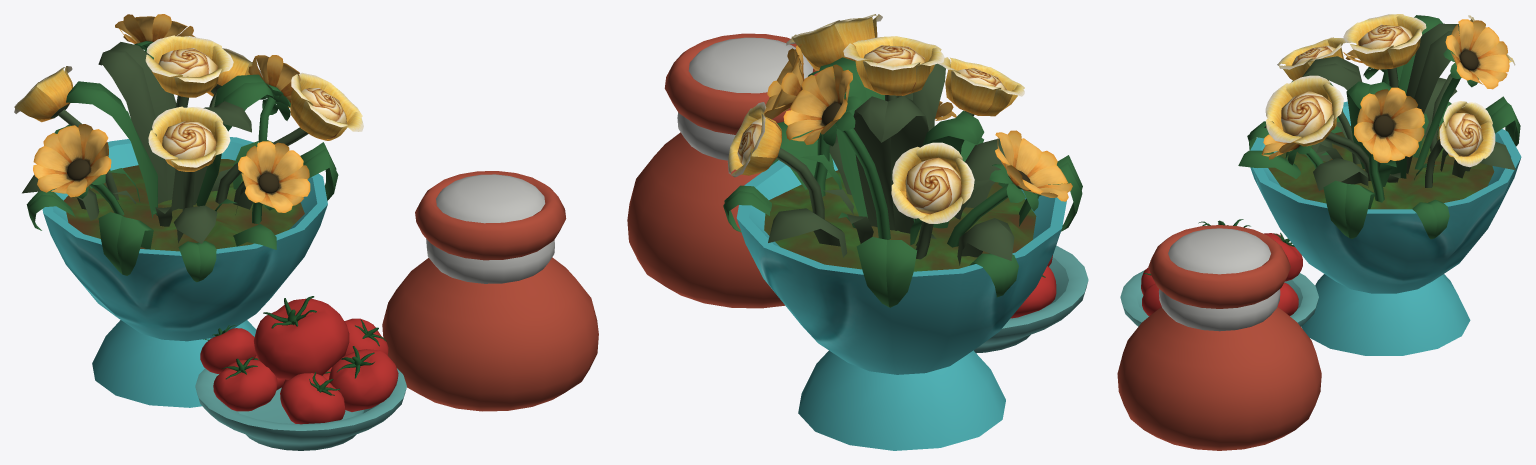
Rendered from OT_172_twinsun_souvenirs.glb.
3 views of the same model, side by side, from view 1: azimuth 30°, elevation 25°; view 2: azimuth 150°, elevation 25°; view 3: azimuth 270°, elevation 25° (orthographic). The views are drawn at different scales.
Parts seen in each view (by area): view 1: red_pot, pot, plate, tomato_1, leaves huge.001, daisy_petal.001, daisy_petal.002, leaves medium, tomato_2, rose_petal.003, tomato_3, rose_petal.002 (+19 smaller); view 2: pot, red_pot, leaves big, leaves huge.001, leaves medium, plate, rose_petal.003, daisy_petal.003, daisy_petal.001, daisy_stems, rose_petal.004, rose_petal.001 (+17 smaller); view 3: red_pot, pot, daisy_petal.004, leaves medium, daisy_petal.003, rose_petal.002, leaves big, rose_petal.003, leaves huge.001, plate, rose.002, rose_stems (+17 smaller).
Part boxes in pixels (x1,y1,x2,y2): red_pot: (382,171,598,411); pot: (42,137,327,407); plate: (195,368,406,450); tomato_1: (254,296,349,379); leaves huge.001: (98,42,176,203); daisy_petal.001: (33,124,111,197); daisy_petal.002: (238,141,310,212); leaves medium: (54,124,338,275); tomato_2: (328,346,398,411); rose_petal.003: (145,35,233,97); tomato_3: (280,372,345,424); rose_petal.002: (290,72,363,140); pot: (736,159,1066,450); red_pot: (627,33,818,308); leaves big: (768,134,1014,265); leaves huge.001: (853,95,928,233); leaves medium: (771,121,1082,307); plate: (974,245,1088,353); rose_petal.003: (843,36,944,95); daisy_petal.003: (783,64,852,144); daisy_petal.001: (995,130,1072,201); daisy_stems: (814,123,1008,247); rose_petal.004: (891,142,974,223); rose_petal.001: (938,57,1024,116); red_pot: (1117,225,1321,450); pot: (1250,101,1521,355); daisy_petal.004: (1354,87,1424,162); leaves medium: (1292,80,1520,238); daisy_petal.003: (1445,19,1509,89); rose_petal.002: (1265,75,1343,146); leaves big: (1264,77,1515,190); rose_petal.003: (1343,14,1426,69); leaves huge.001: (1406,23,1459,173); plate: (1120,270,1318,326); rose.002: (1281,91,1332,137); rose_stems: (1324,67,1452,187).
Size of the model in its own units: 1.49 by 1 by 1.21.
Materials: 10 (1 with a texture image).
